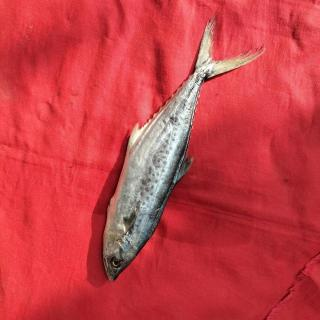Ikan: (95, 7, 275, 293)
